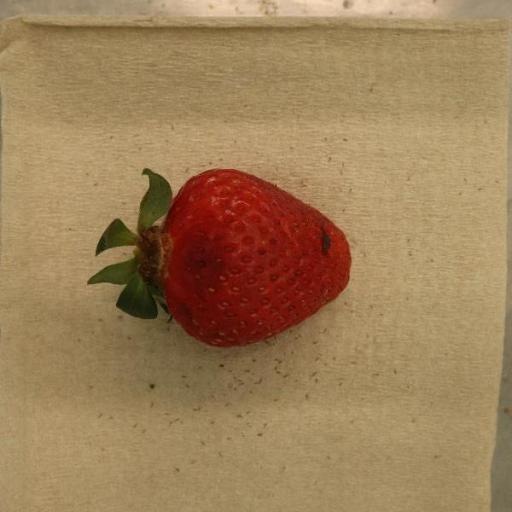Strawberry: (87, 168, 352, 349)
